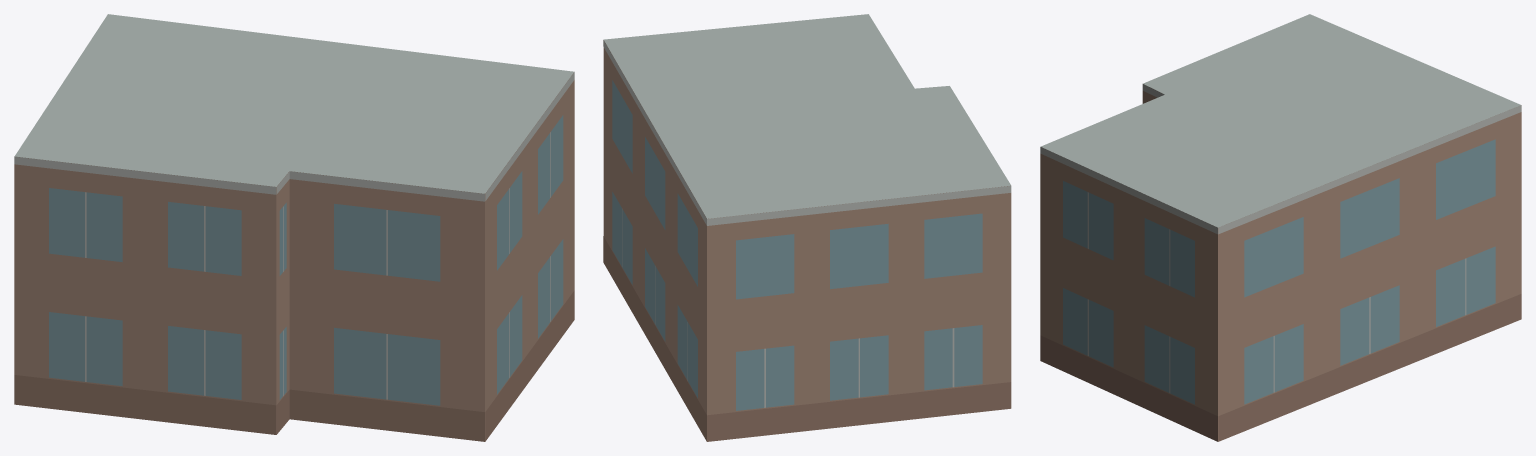
The model's file is survey-upis-32917872.glb.
3 renders of one model, left to right at view 1: azimuth 30°, elevation 25°; view 2: azimuth 150°, elevation 25°; view 3: azimuth 270°, elevation 25°, orthographic. The views are drawn at different scales.
Parts seen in each view (by area): view 1: survey-upis-32917872.tmp; view 2: survey-upis-32917872.tmp; view 3: survey-upis-32917872.tmp.
Boxes of the visible parts, left/top/right/bottom form: survey-upis-32917872.tmp: left=14, top=14, right=574, bottom=441; survey-upis-32917872.tmp: left=603, top=14, right=1011, bottom=441; survey-upis-32917872.tmp: left=1040, top=14, right=1521, bottom=441.
Size of the model in its own units: 16.37 by 7.65 by 15.58.
